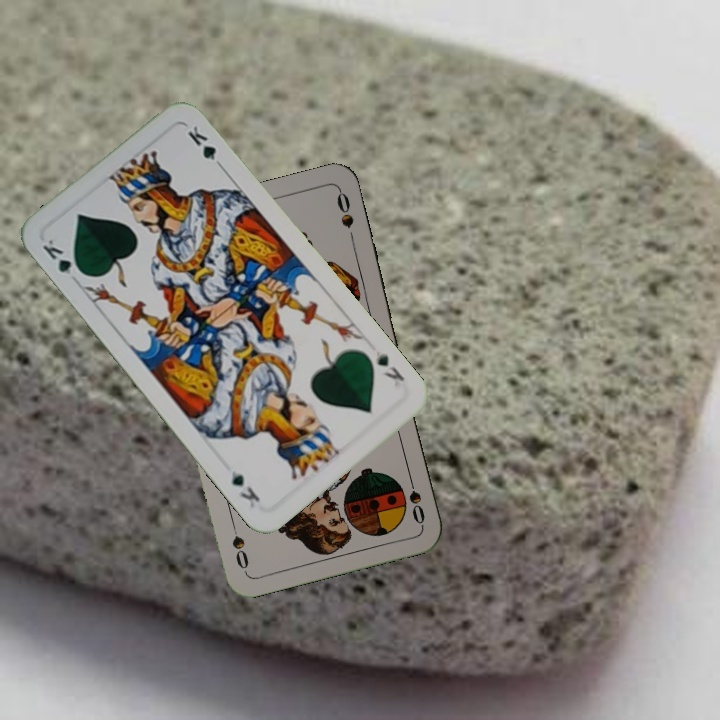GK: (38, 235, 87, 279), (371, 346, 407, 384)
SO: (403, 468, 428, 527)
